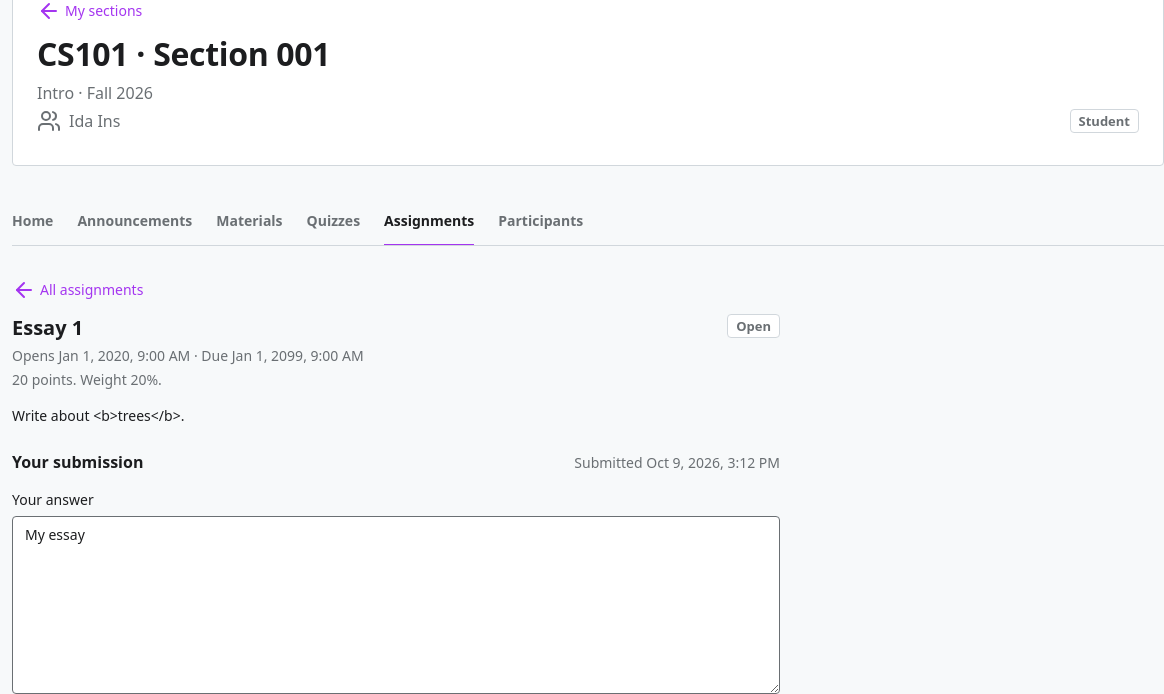
Test case: open: shows the answer, window and Submitted time; Save PUTs the body
Expected: the text "Opens Jan 1, 2020, 9:00 AM · Due Jan 1, 2099, 9:00 AM" is shown, [12,346,364,365]
Expected: the text "Submitted Oct 9, 2026, 3:12 PM" is shown, [574,453,780,473]
Step 1. Replace the text in the text box labelled "Your answer" with " New text " → coordinates (396, 605), box [12,516,780,693]
(page scrolled)
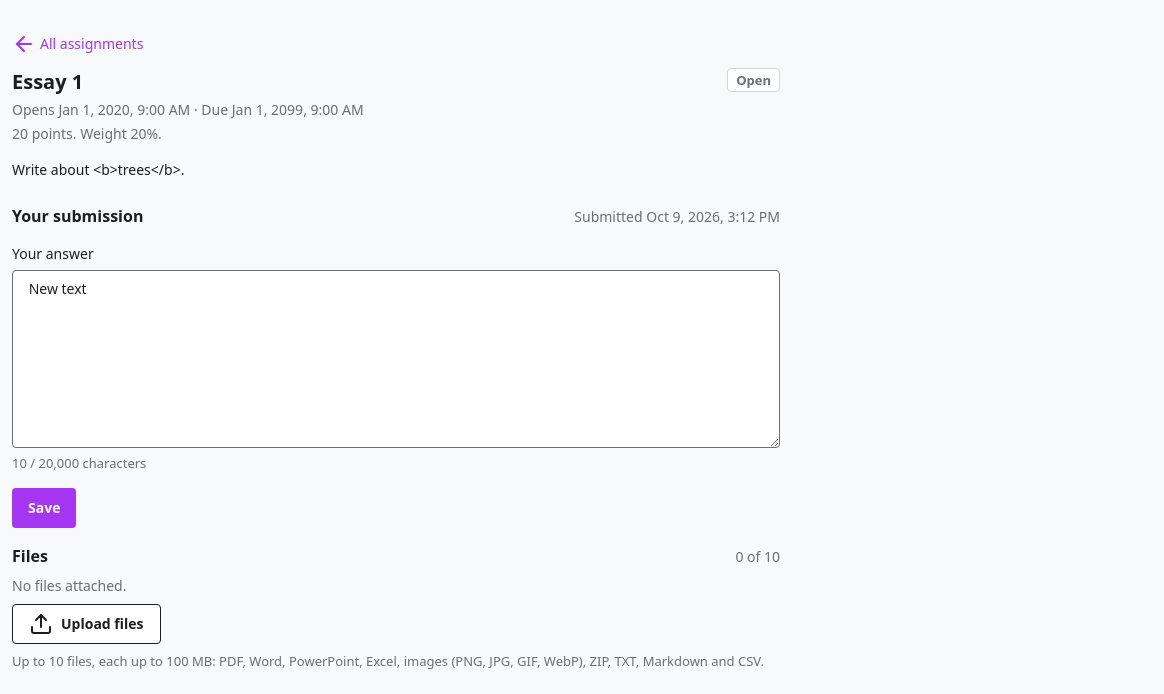
Step 2. Click the button "Save" → coordinates (44, 508), box [12,488,76,528]
(page scrolled)
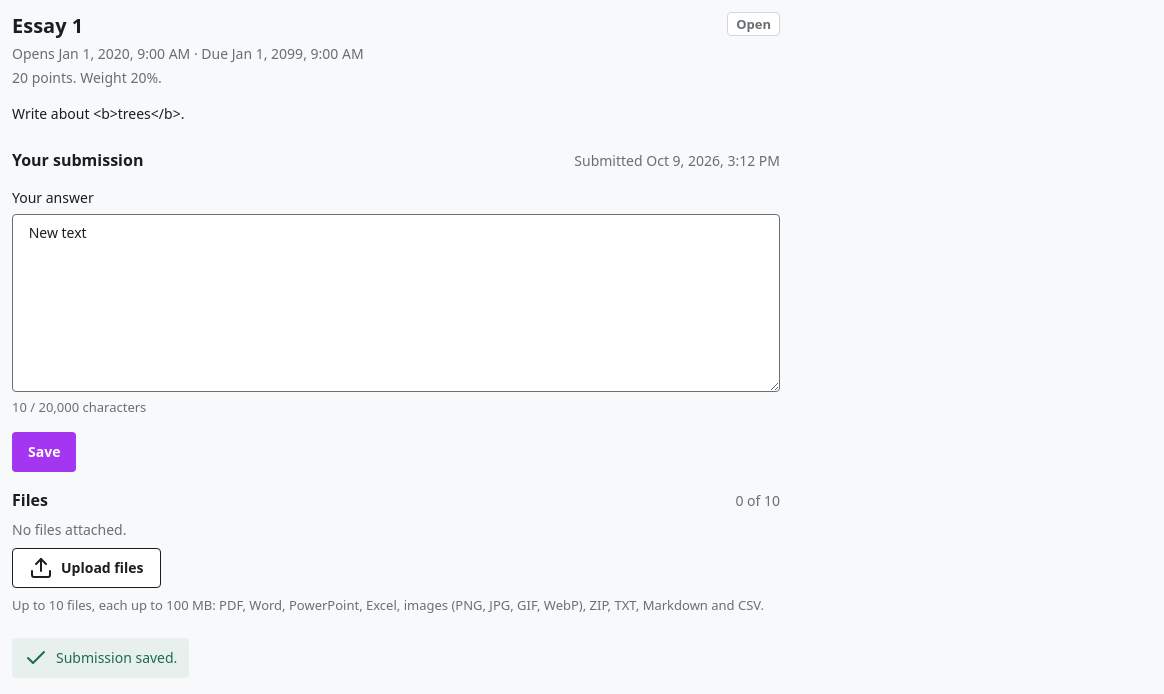
Expected: the text "Submission saved." is shown, [12,638,189,678]
